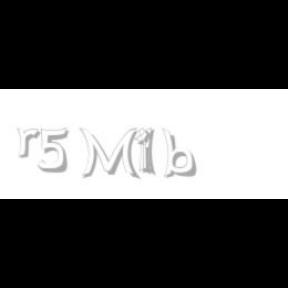1: (134, 128, 156, 176)
5: (38, 128, 68, 174)
M: (79, 128, 138, 180)
b: (162, 128, 200, 178)
i: (138, 128, 154, 176)
r: (16, 128, 44, 158)
